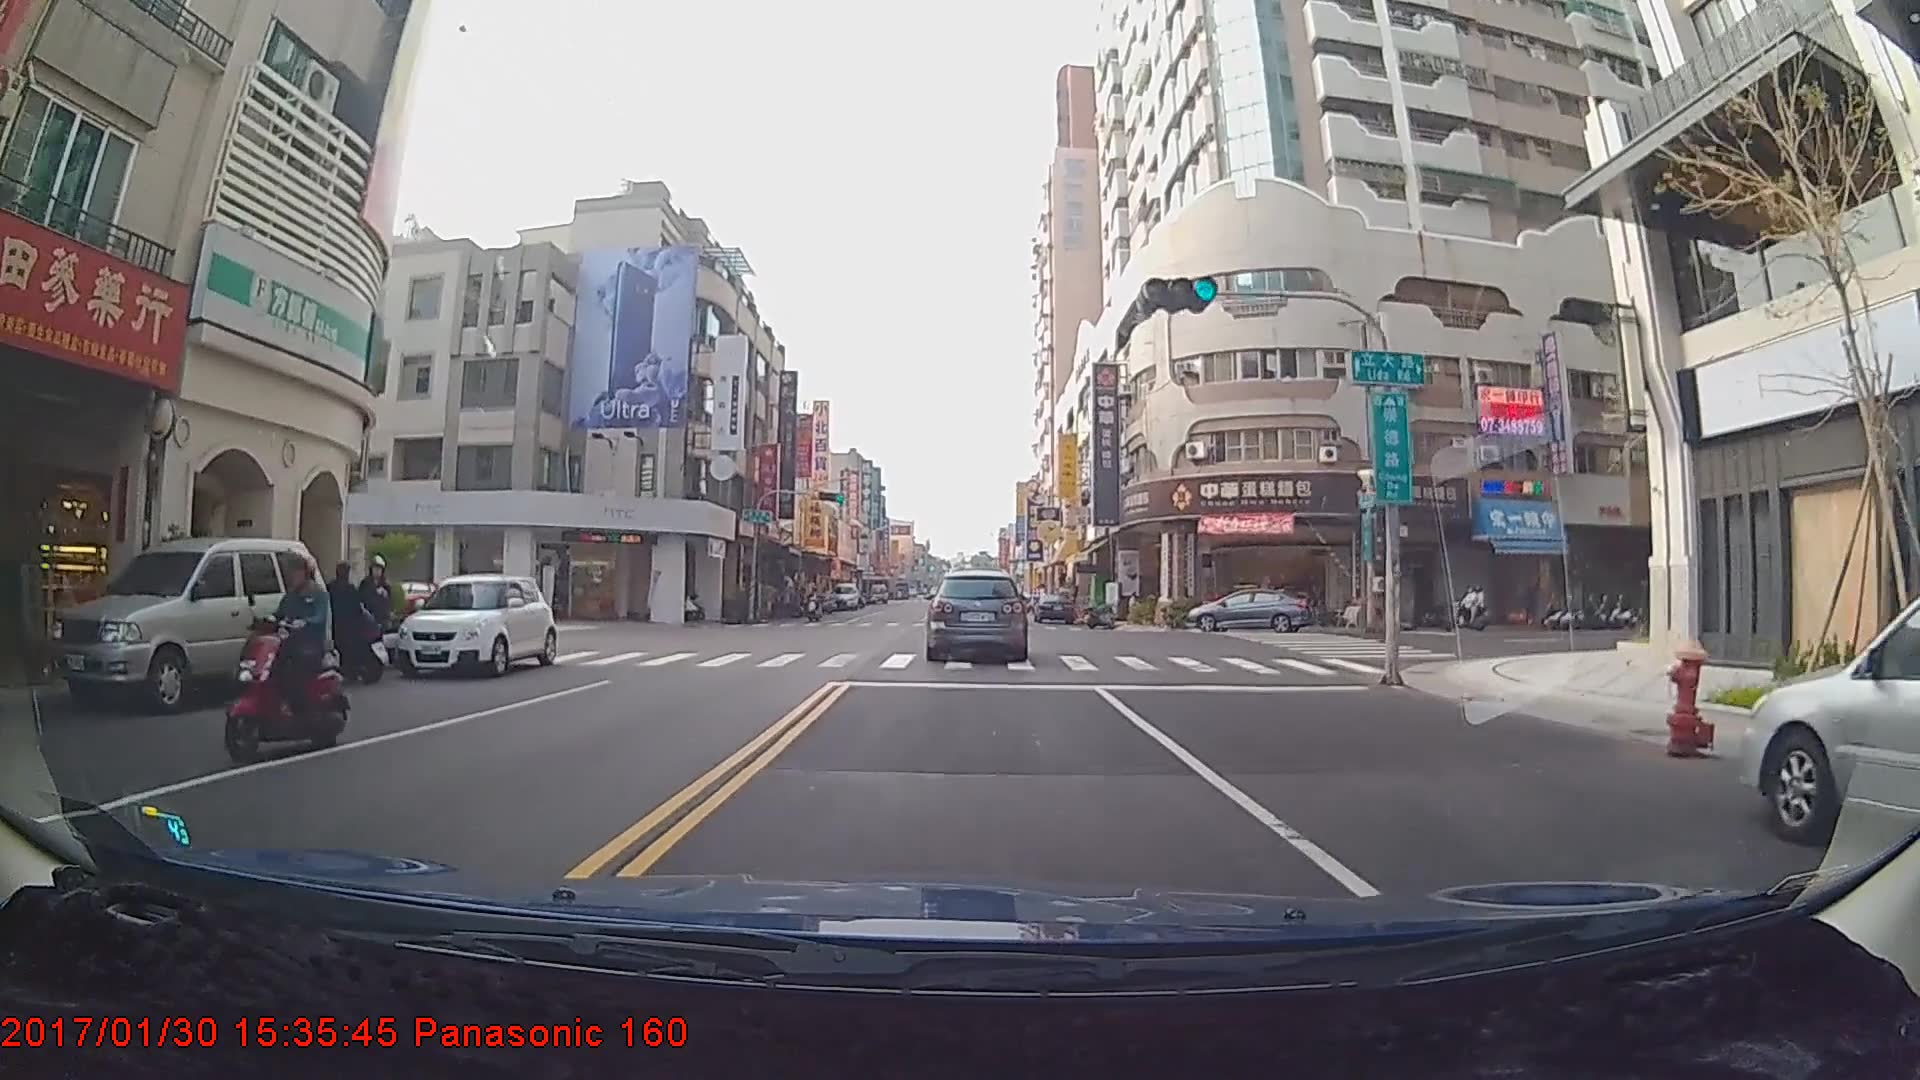pedestrian: (348, 545, 398, 672)
rider: (208, 552, 346, 773), (1434, 583, 1486, 632), (799, 589, 829, 629)
vehicle: (1734, 563, 1919, 919), (45, 533, 332, 714), (394, 573, 556, 678), (927, 568, 1026, 663), (1185, 585, 1313, 634), (1035, 590, 1076, 623), (831, 581, 859, 610)
